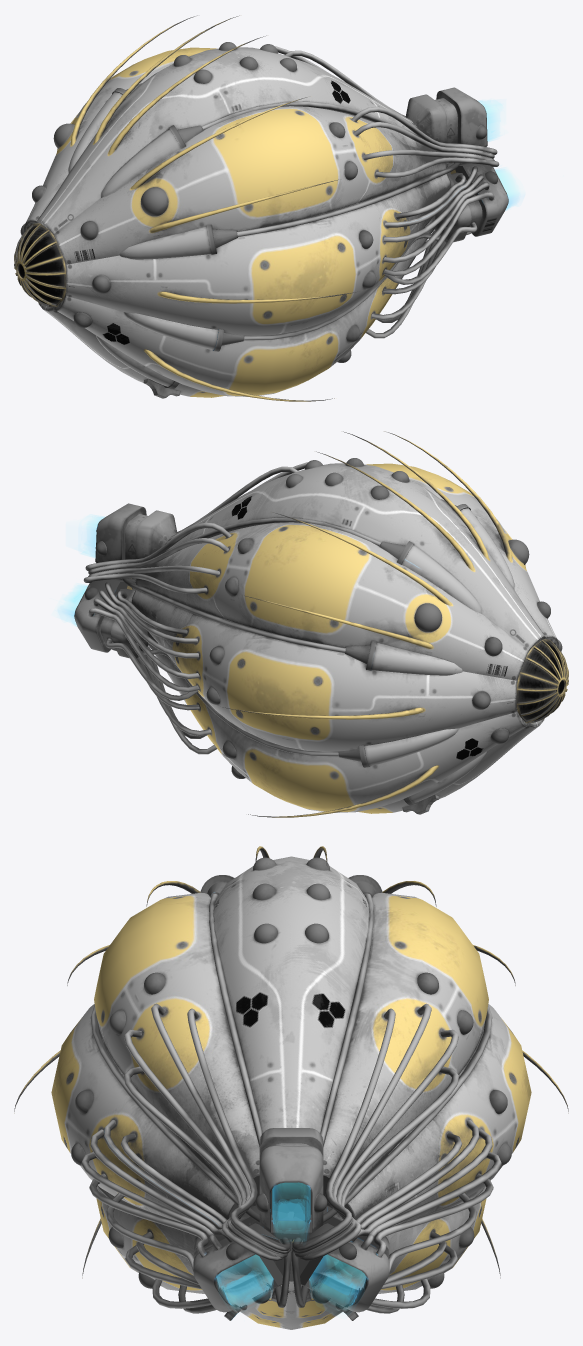
File: spaceship_scifi_1k.glb
3 renders of one model, top to bottom at view 1: azimuth 30°, elevation 25°; view 2: azimuth 150°, elevation 25°; view 3: azimuth 270°, elevation 25°, orthographic. The views are drawn at different scales.
Parts seen in each view (by area): view 1: Sphere.152_copy_low; view 2: Sphere.152_copy_low; view 3: Sphere.152_copy_low.
Part boxes in pixels (x1=…): Sphere.152_copy_low: x1=14, y1=15, x2=519, y2=401; Sphere.152_copy_low: x1=58, y1=431, x2=568, y2=817; Sphere.152_copy_low: x1=14, y1=846, x2=568, y2=1329.
Size of the model in its own units: 1.83 by 1.18 by 1.27.
Materials: 2 (2 with a texture image).
